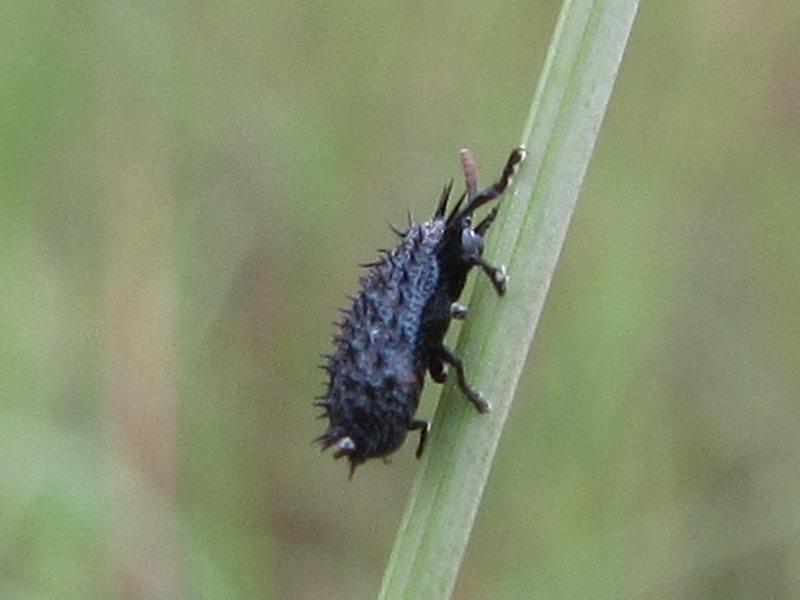Spiny_beetle: (306, 178, 507, 465)
